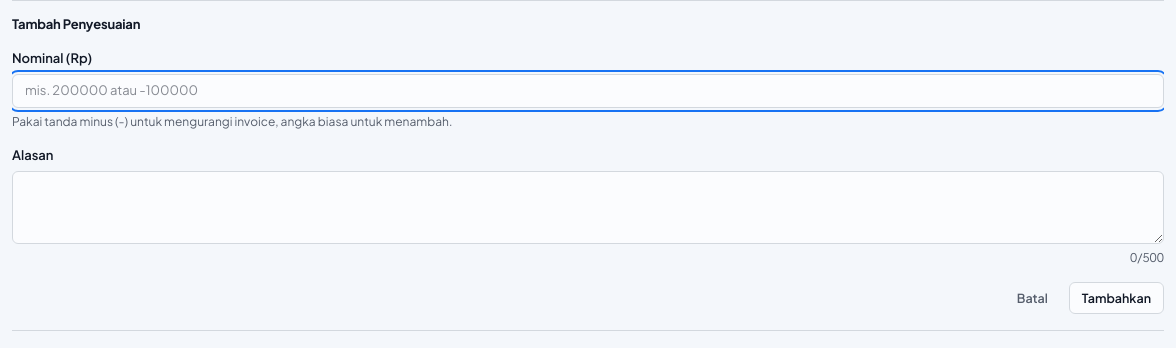
Test case: AdjustmentForm › refuses an amount past Rp10.000.000 before anything is sent, with no preview of it
Type "99999999999999999" into the field labelled "Nominal (Rp)".
click(588, 91); type("99999999999999999")  # box [12,74,1164,108]
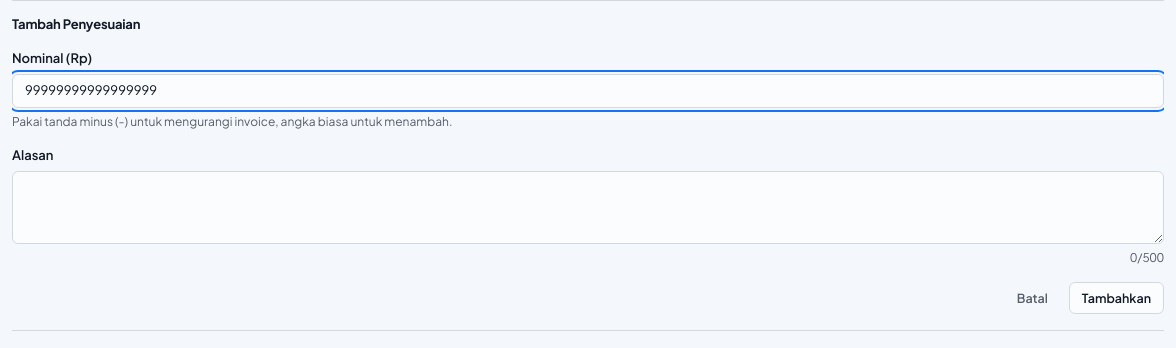
Type "nominal tidak wajar" into the text box labelled "Alasan".
click(588, 207); type("nominal tidak wajar")  # box [12,171,1164,244]
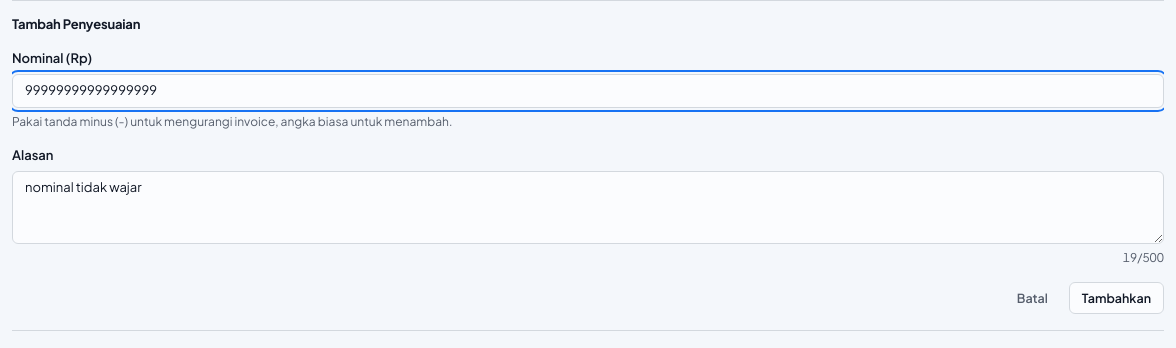
Click the button "Tambahkan".
click(1116, 298)  # box [1069,282,1164,314]
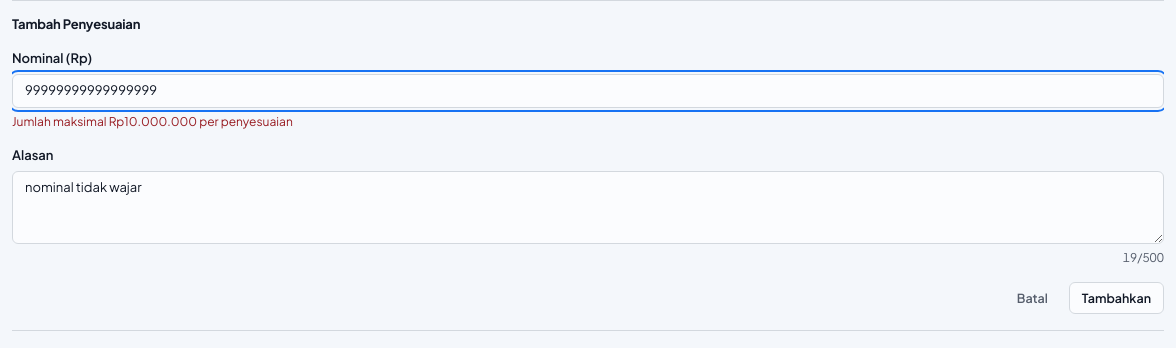
Result: the text "Jumlah maksimal Rp10.000.000 per penyesuaian" is shown at [12,114,293,129]
